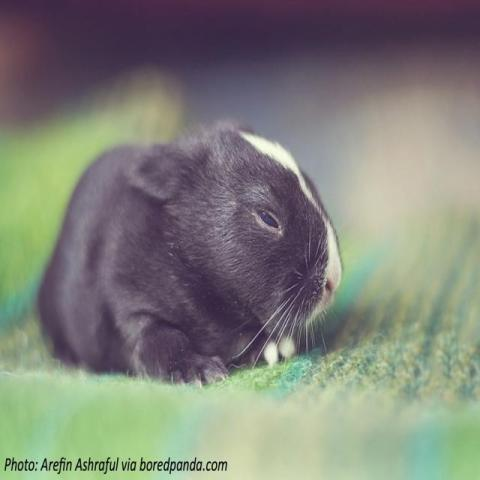small_animal: (33, 118, 345, 386)
